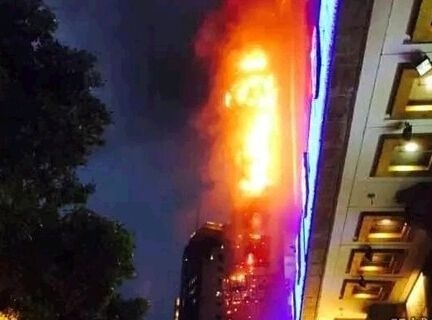fire: (225, 47, 277, 196)
